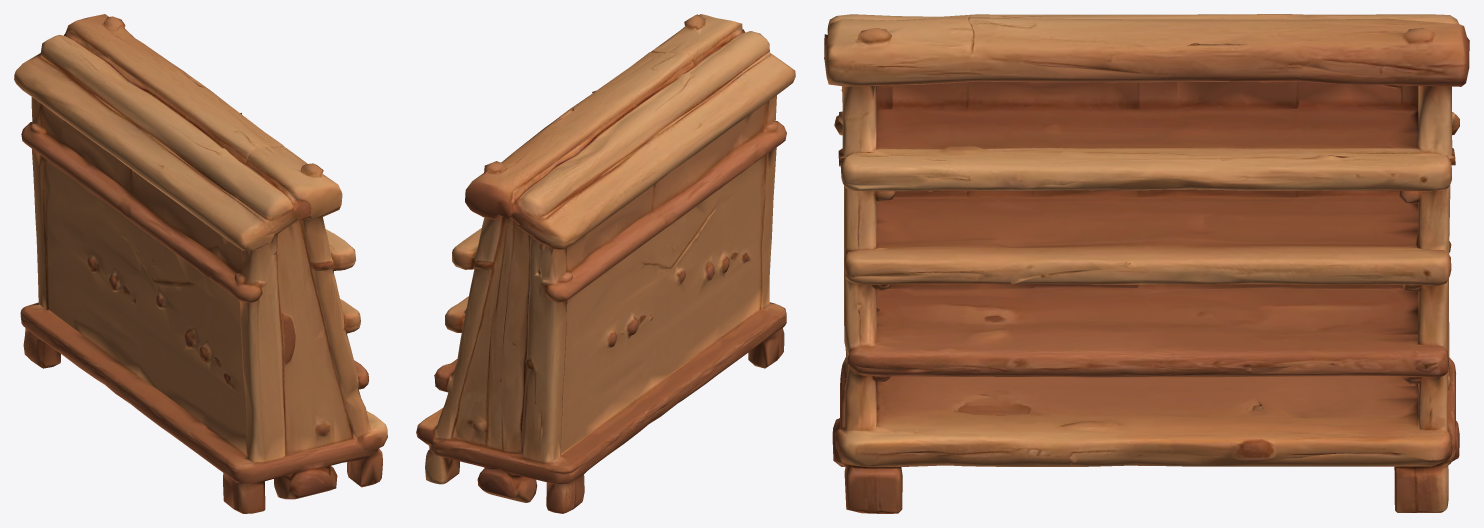
File: shelf.glb
3 views of the same model, side by side, from view 1: azimuth 30°, elevation 25°; view 2: azimuth 150°, elevation 25°; view 3: azimuth 270°, elevation 25° (orthographic). The views are drawn at different scales.
Visible parts, largest first — view 1: tripo_node_fc4eec8a-3c69-4e74-ac5d-3dd412cebebc; view 2: tripo_node_fc4eec8a-3c69-4e74-ac5d-3dd412cebebc; view 3: tripo_node_fc4eec8a-3c69-4e74-ac5d-3dd412cebebc.
Boxes of the visible parts, x1,y1,x2,y2 form: tripo_node_fc4eec8a-3c69-4e74-ac5d-3dd412cebebc: [14, 14, 387, 513]; tripo_node_fc4eec8a-3c69-4e74-ac5d-3dd412cebebc: [416, 14, 795, 513]; tripo_node_fc4eec8a-3c69-4e74-ac5d-3dd412cebebc: [824, 14, 1469, 513].
Size of the model in its own units: 0.3865 by 0.7626 by 0.9975.
Materials: 1 (1 with a texture image).
